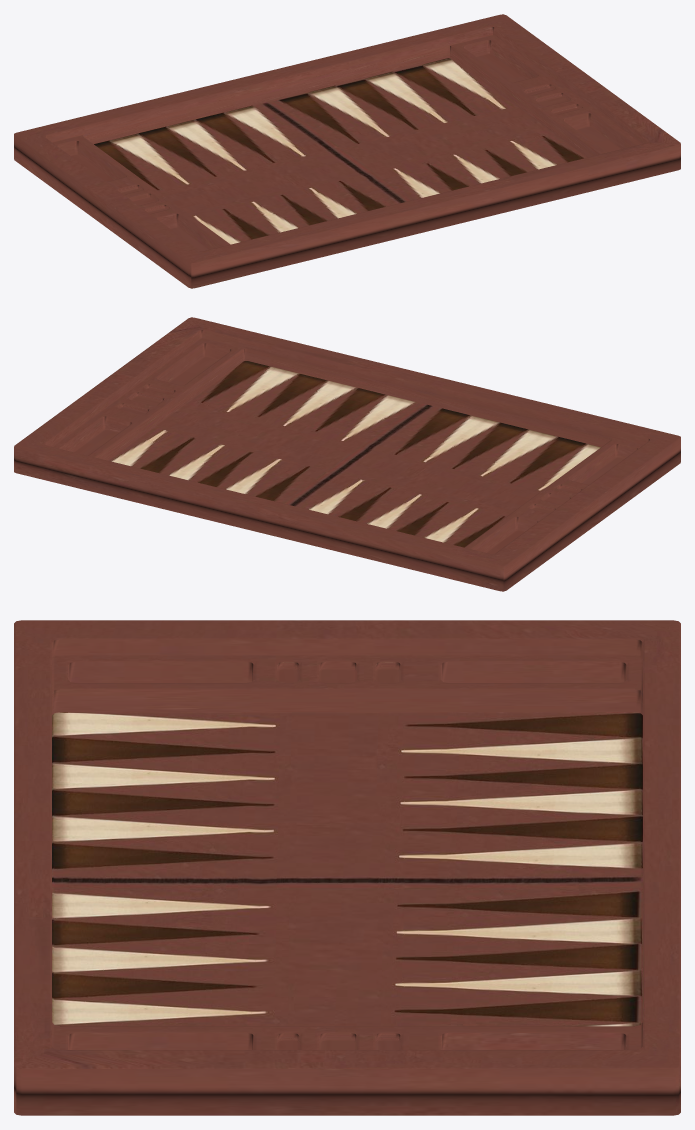
Rendered from tavla.glb.
3 views of the same model, one above another, from view 1: azimuth 30°, elevation 25°; view 2: azimuth 150°, elevation 25°; view 3: azimuth 270°, elevation 25° (orthographic). The views are drawn at different scales.
Visible parts, largest first — view 1: tavla; view 2: tavla; view 3: tavla.
Boxes of the visible parts, x1,y1,x2,y2 form: tavla: [14, 14, 680, 288]; tavla: [14, 317, 680, 591]; tavla: [14, 620, 680, 1115].
Size of the model in its own units: 175 by 8.59 by 110.
1 material, 1 textured.
